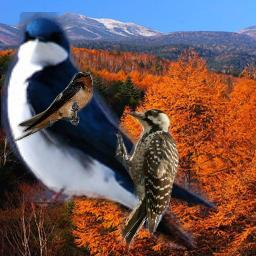Swallow: (1, 12, 217, 248), (9, 72, 93, 141)
Woodpecker: (113, 105, 180, 254)
